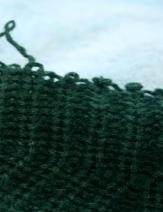snag: (0, 18, 41, 77)
